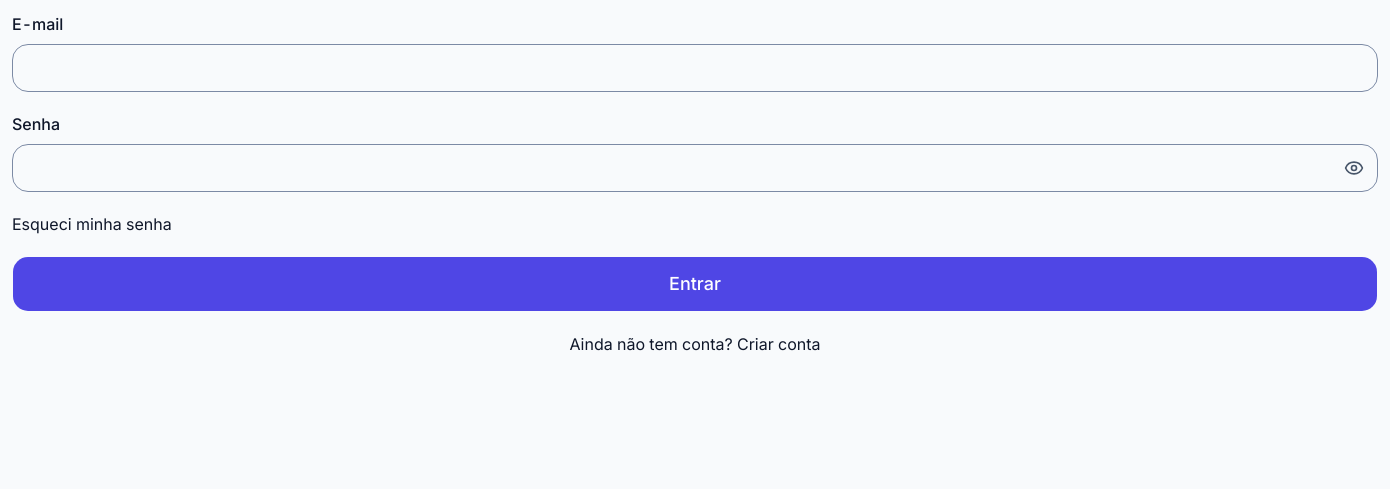
Test: AuthForm com duas etapas › senha certa em conta com 2FA abre a segunda etapa em vez de entrar
The image size is (1390, 489).
Step 1. Type "maria@example.com" into the field labelled "E-mail" → (695, 68), box [12,44,1378,92]
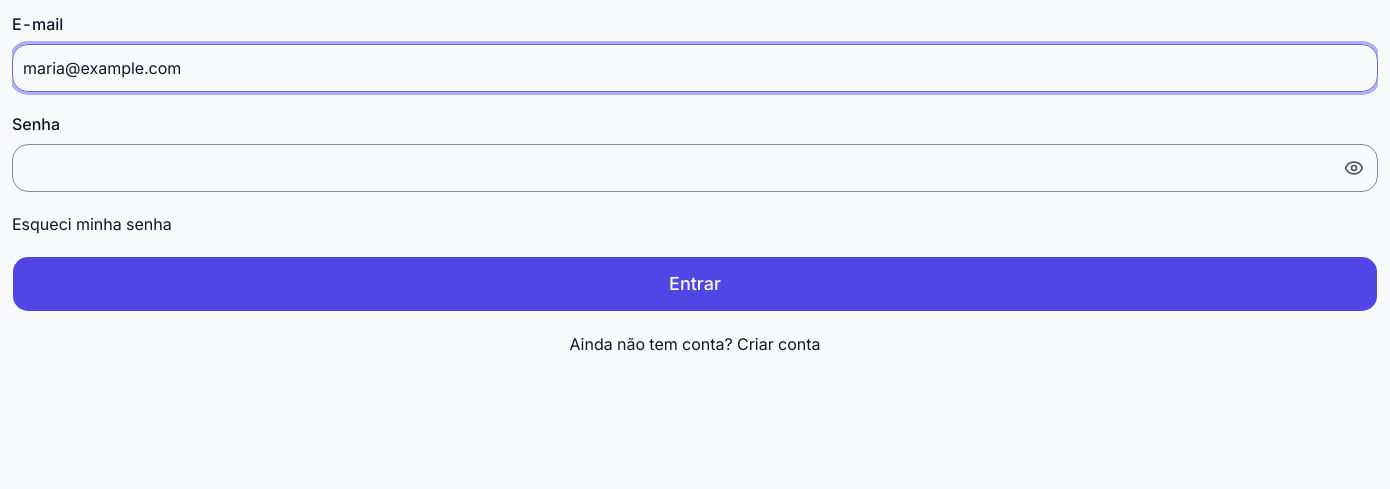
Step 2. Type "senha-certa-123" into the password field labelled "Senha" → (695, 168), box [12,144,1378,192]
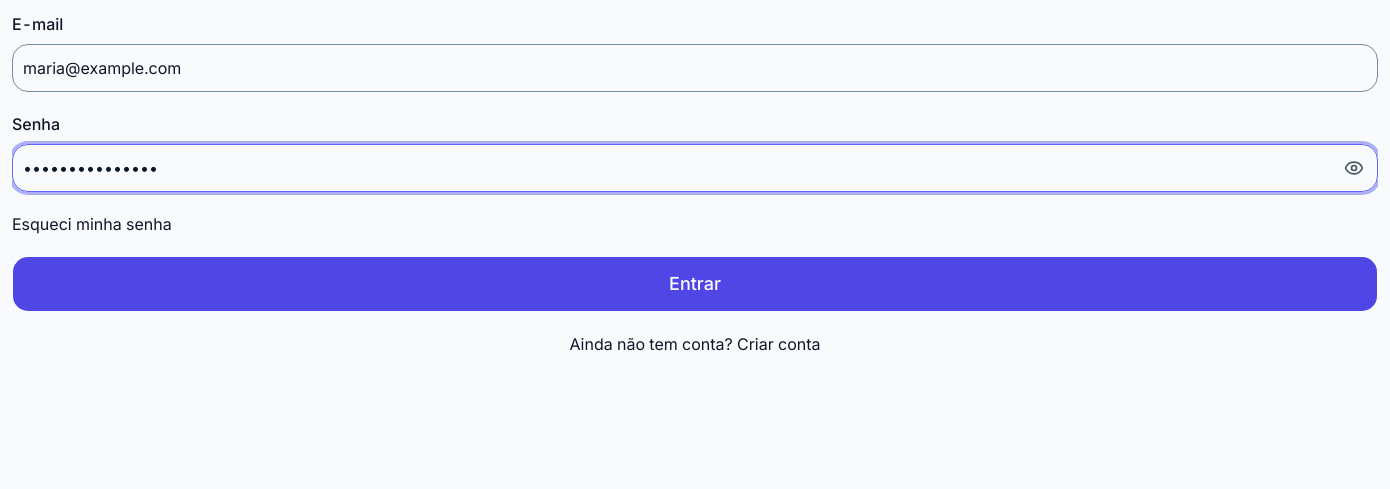
Step 3. Click the button "Entrar" → click(695, 284), box [12,256,1378,312]
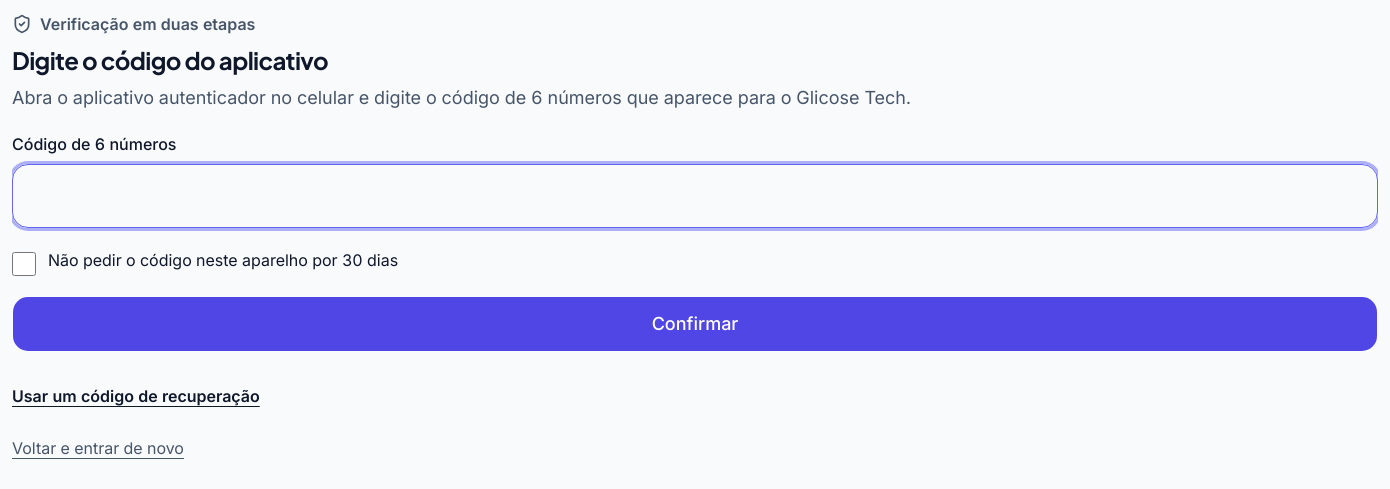
Expected: the heading "Digite o código do aplicativo" is shown, [12,45,328,75]
Step 4. Click the button "Voltar e entrar de novo" → click(98, 448), box [12,424,1378,472]
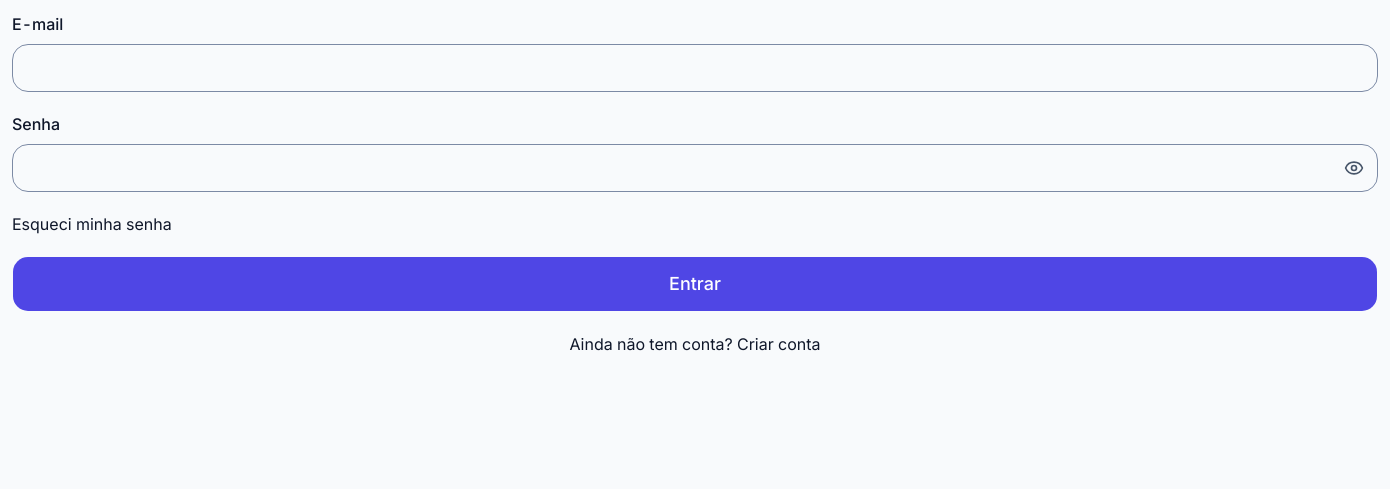
Expected: the button "Entrar" is shown, [12,256,1378,312]
